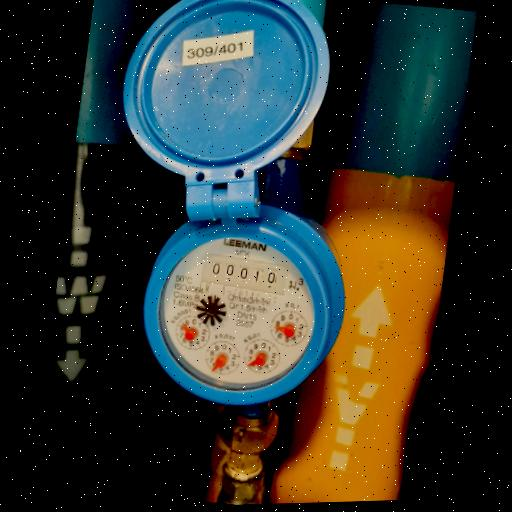0: (265, 268, 278, 289), (210, 260, 223, 278), (224, 262, 236, 281), (238, 265, 250, 283)
1: (251, 266, 263, 285)
border_water_meter_number: (199, 249, 291, 298)
